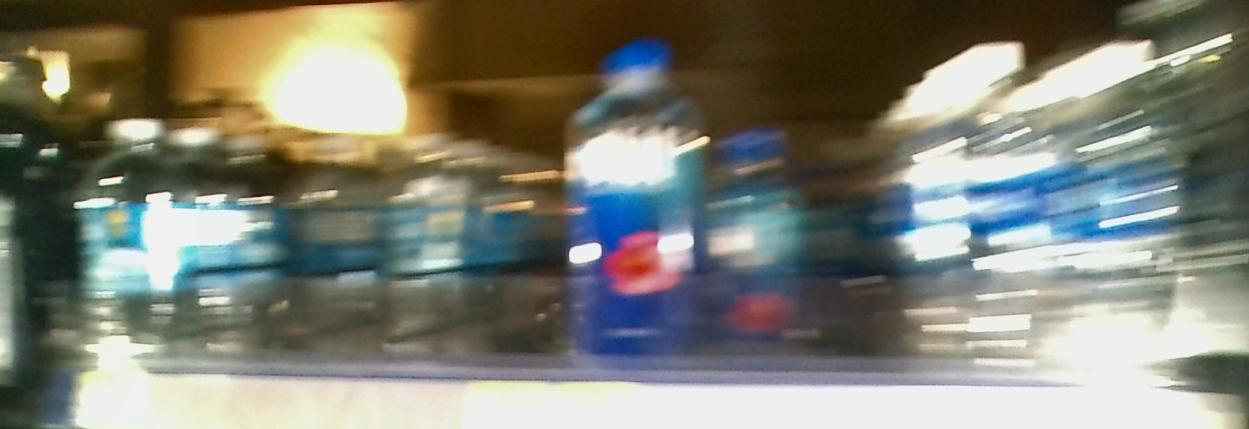bottle: (563, 37, 697, 385), (74, 118, 197, 357), (711, 111, 812, 386)
